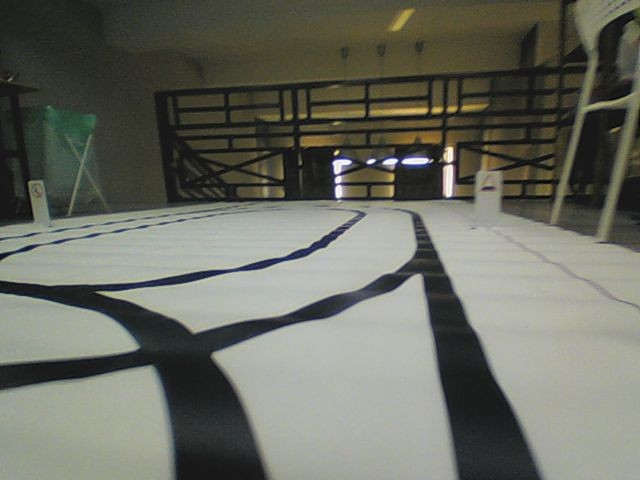Nerov: (479, 173, 497, 192)
